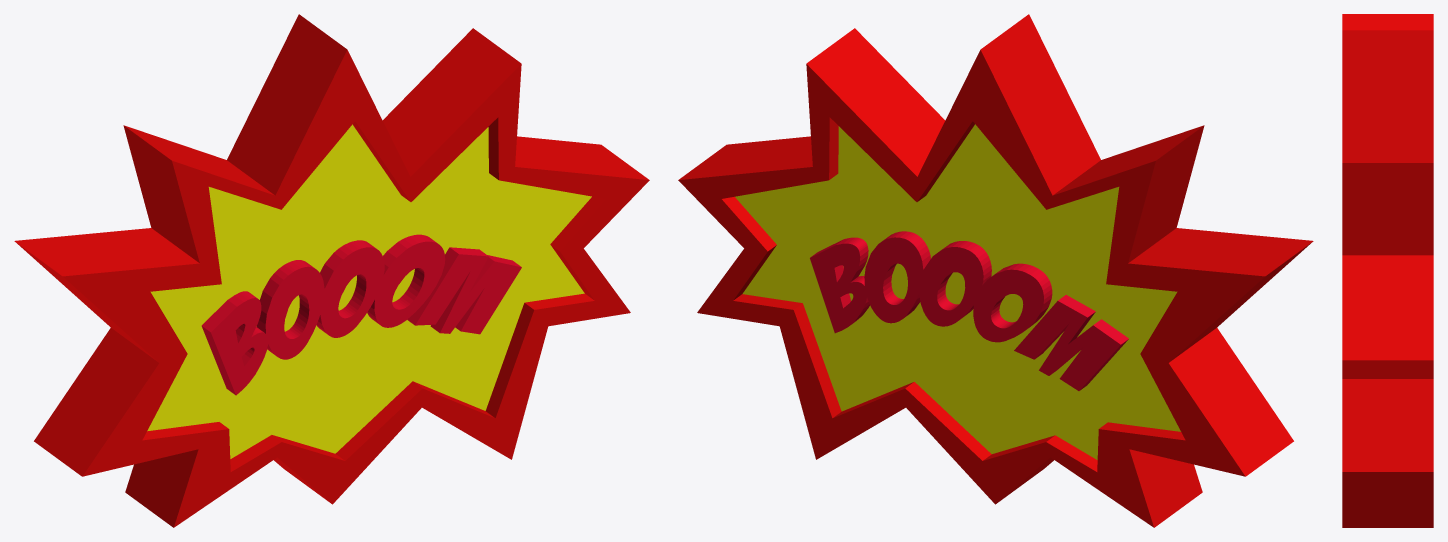
The model's file is BoomAnimation.fbx.
3 renders of one model, left to right at view 1: azimuth 30°, elevation 25°; view 2: azimuth 150°, elevation 25°; view 3: azimuth 270°, elevation 25°, orthographic. The views are drawn at different scales.
Visible parts, largest first — view 1: Zacken, TextVorne; view 2: Zacken, TextHinten; view 3: Zacken.
Boxes of the visible parts, x1,y1,x2,y2 form: Zacken: (14,14,649,527); TextVorne: (201,234,521,395); Zacken: (678,14,1313,527); TextHinten: (810,231,1128,390); Zacken: (1342,14,1433,527).
Bounding box in the file's own units: 53.1 × 39.01 × 7.6.
